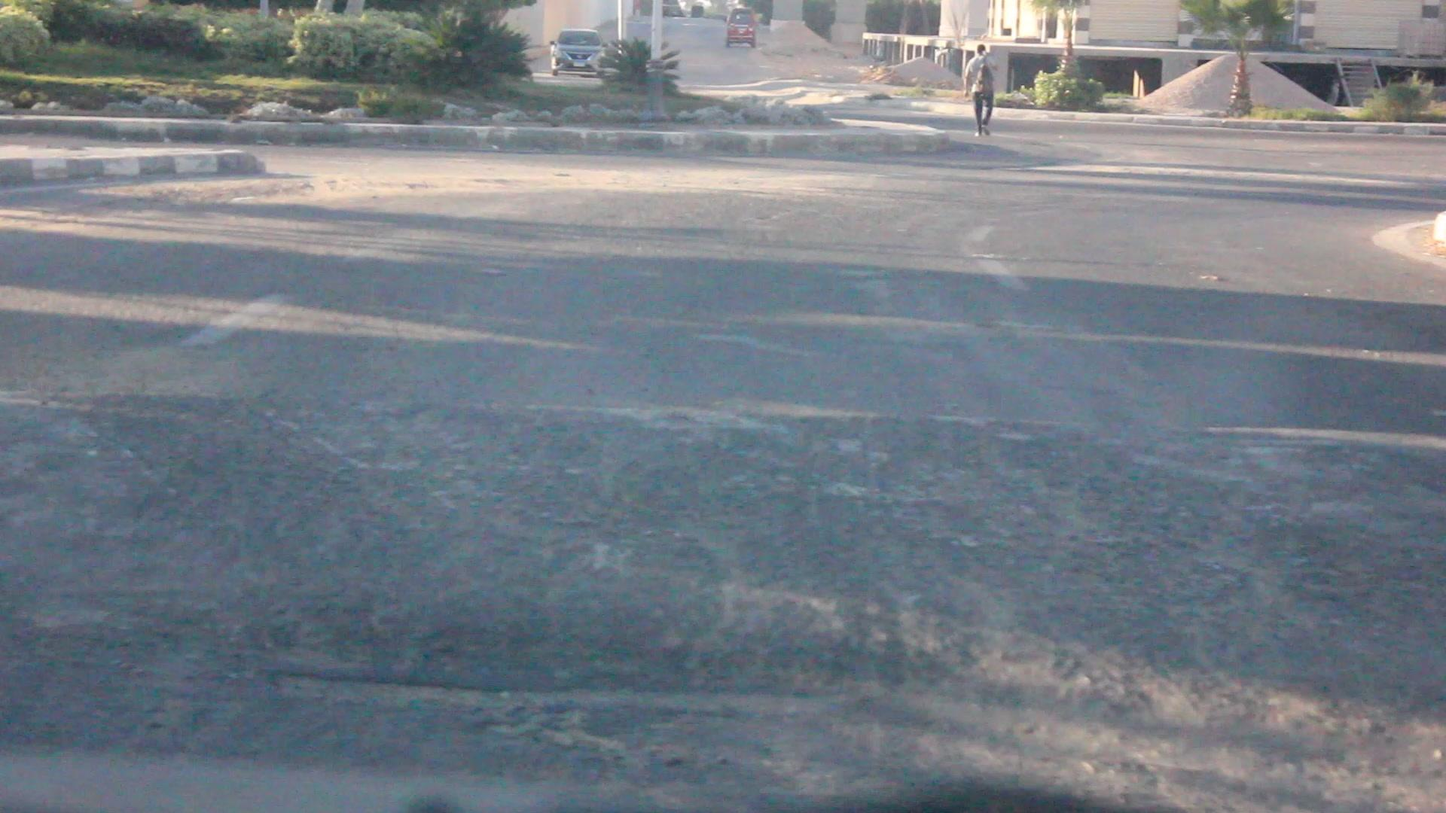Bump: (8, 397, 1435, 786)
Pothole: (245, 656, 864, 729)
